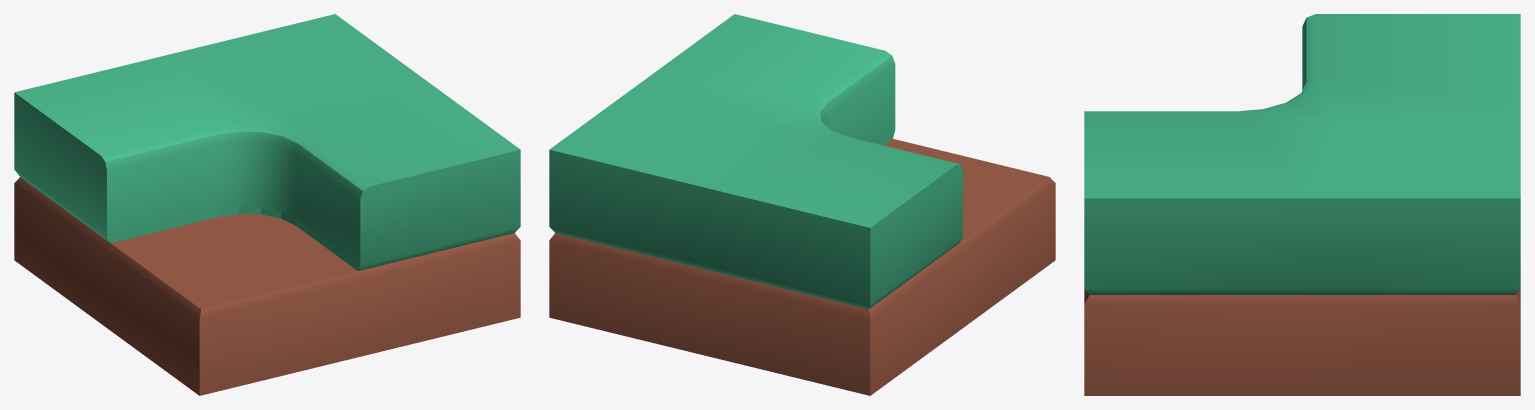
File: square_forest_waterInnerCorner_empty.glb
The picture shows the model from 3 angles, left to right: view 1: azimuth 30°, elevation 25°; view 2: azimuth 150°, elevation 25°; view 3: azimuth 270°, elevation 25°; orthographic projection. The views are drawn at different scales.
Visible parts, largest first — view 1: square_forest_waterInnerCorner_empty; view 2: square_forest_waterInnerCorner_empty; view 3: square_forest_waterInnerCorner_empty.
Part boxes in pixels (x1=…): square_forest_waterInnerCorner_empty: x1=14, y1=14, x2=520, y2=395; square_forest_waterInnerCorner_empty: x1=549, y1=14, x2=1055, y2=395; square_forest_waterInnerCorner_empty: x1=1084, y1=14, x2=1520, y2=395.
Size of the model in its own units: 3.82 by 1.91 by 3.82.
